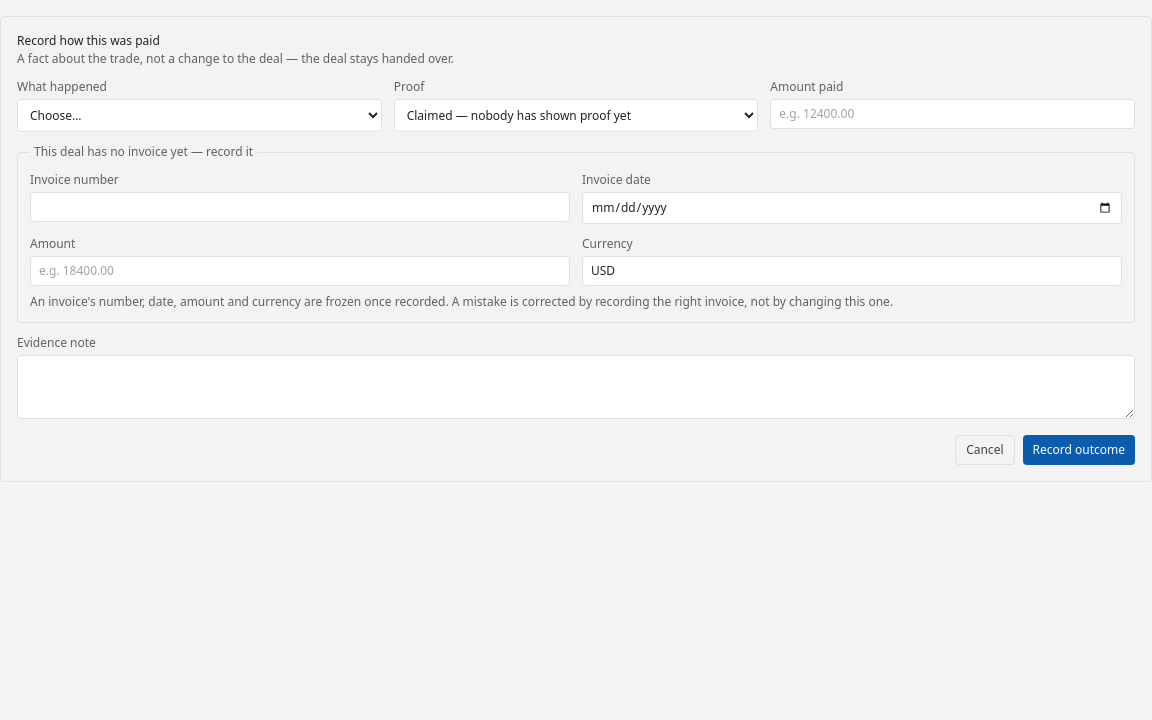
Test case: refuses a half-filled invoice rather than sending it
Type "INV-2026-0041" into the field labelled "Invoice number" at (300, 207), box [30,192,570,222]
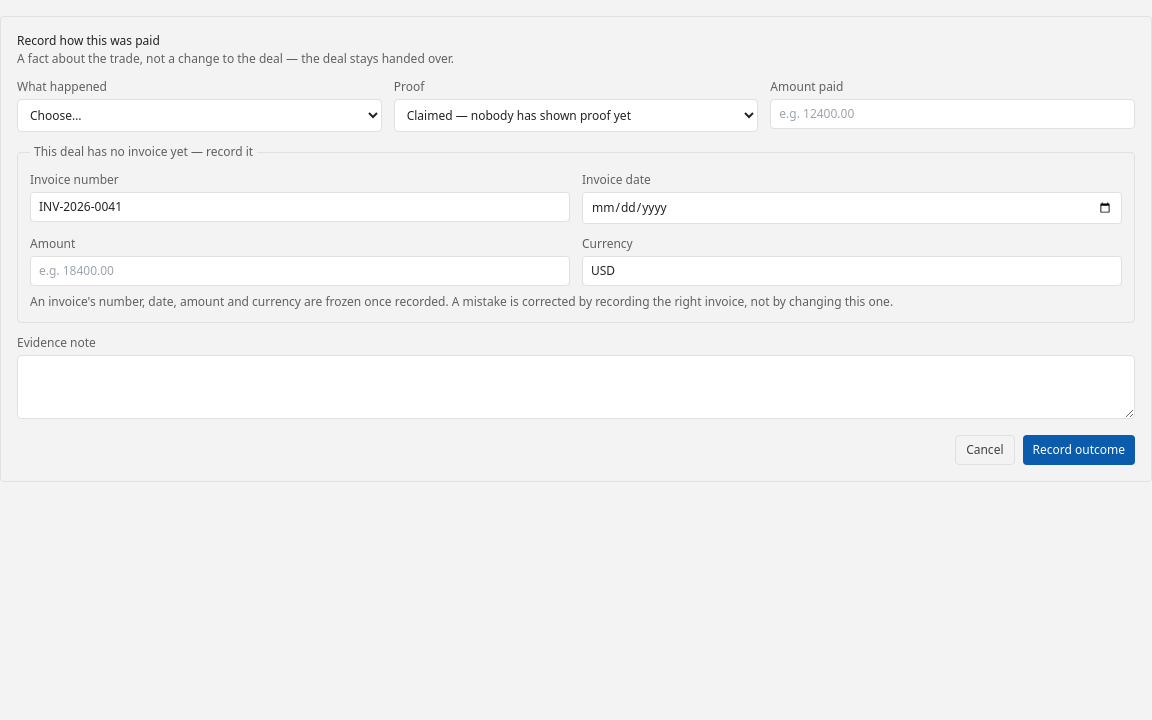
Select "Paid" in the dropdown labelled "What happened" at (199, 116), box [17,99,382,132]
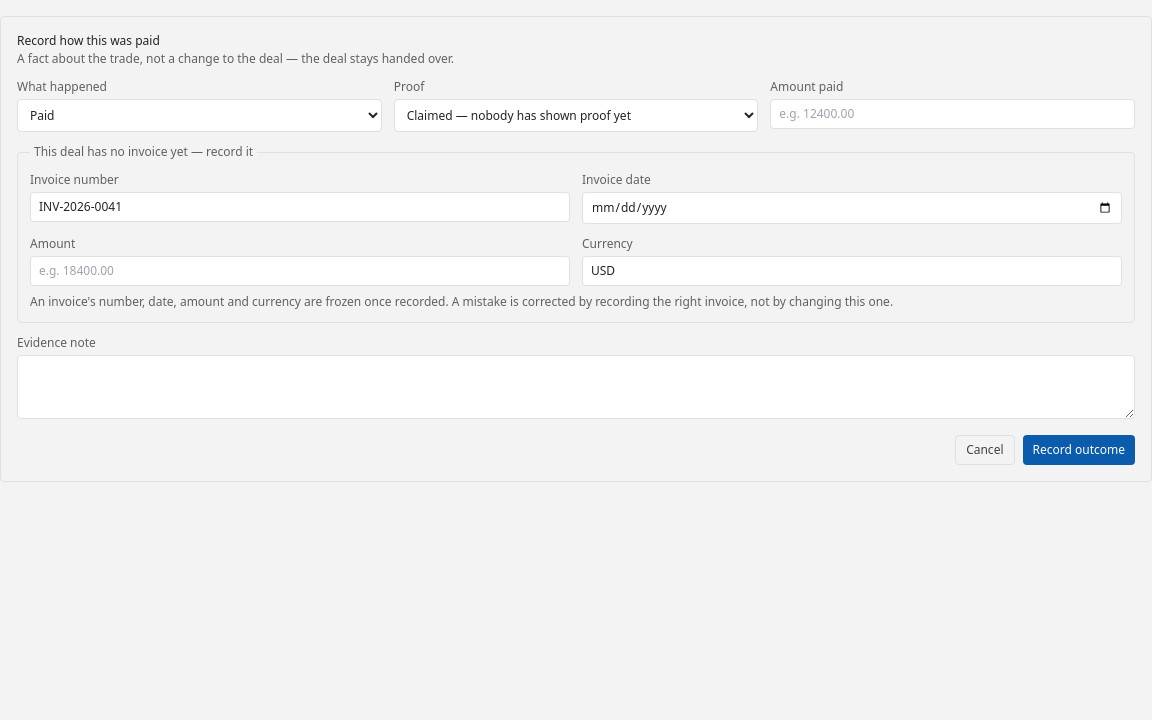
Click the button "Record outcome" at (1079, 450), box [1022,435,1135,465]
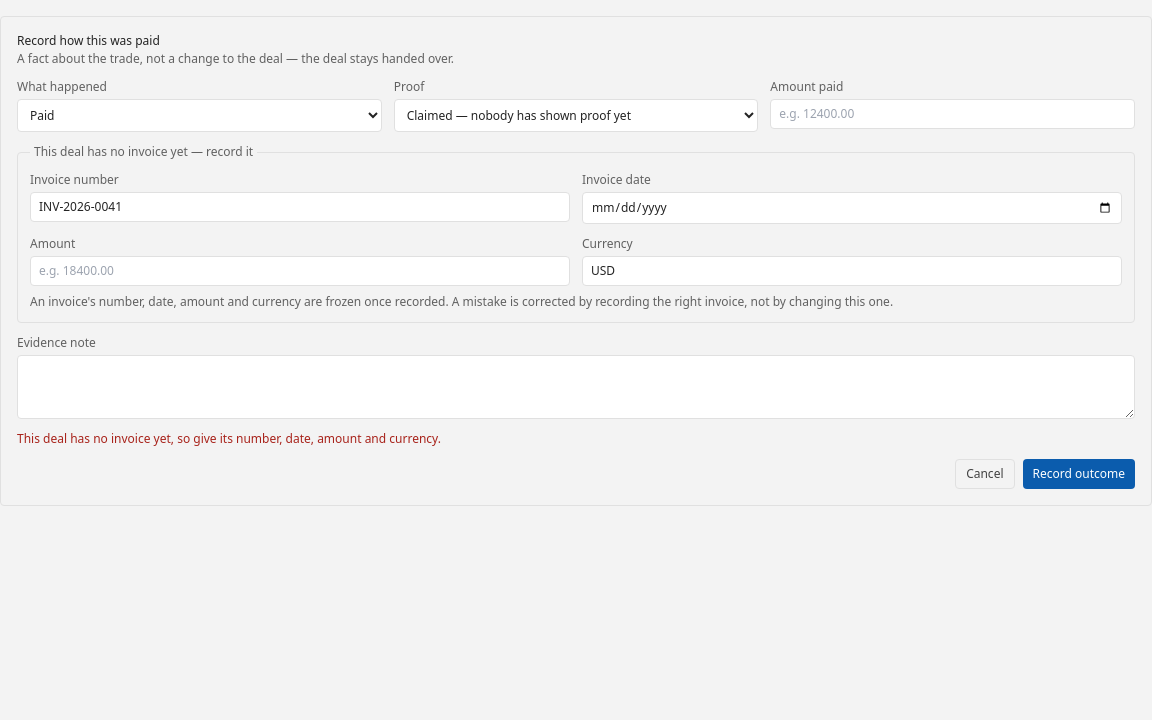
expect the message shows "number, date, amount and currency": met, box [17,430,441,447]
